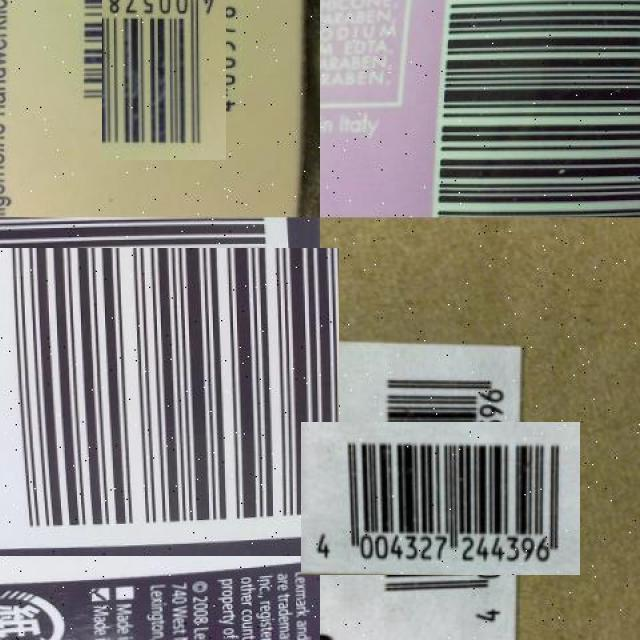Barcode: (0, 232, 323, 571), (332, 390, 549, 607), (426, 0, 640, 217), (84, 0, 244, 142)
